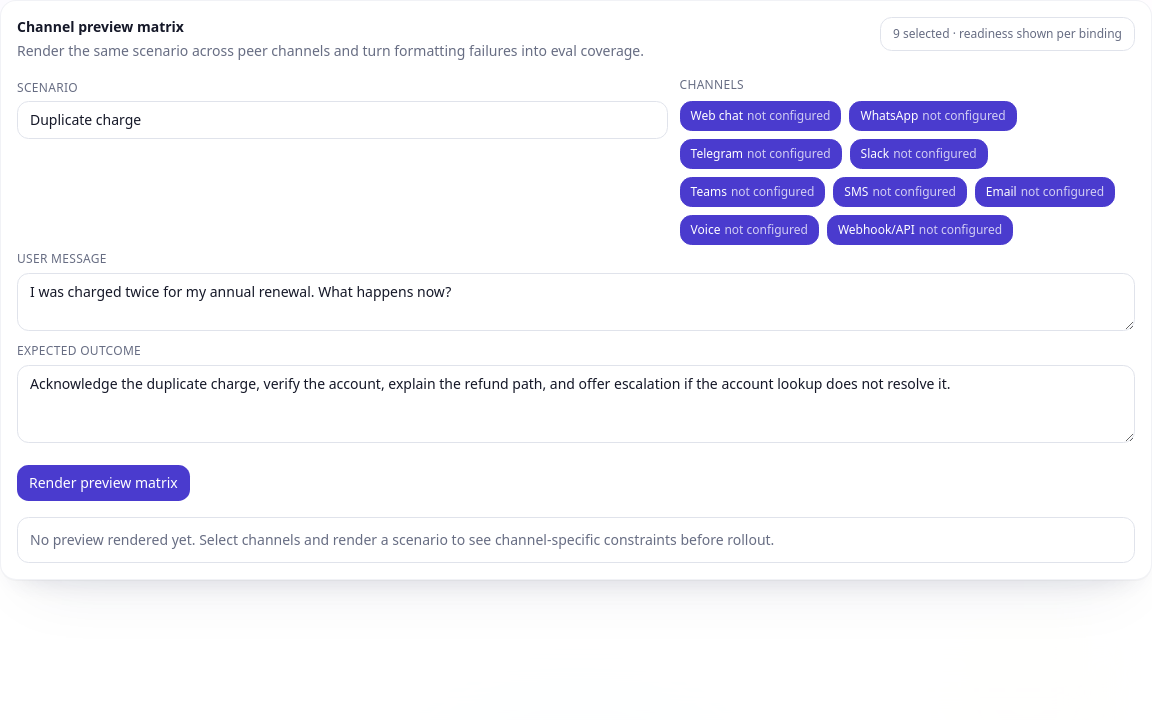
Test: ChannelPreviewMatrix › shows an explicit backend requirement instead of rendering a fixture matrix
Click the button "Render preview matrix".
click(103, 483)  # box [17,465,190,501]
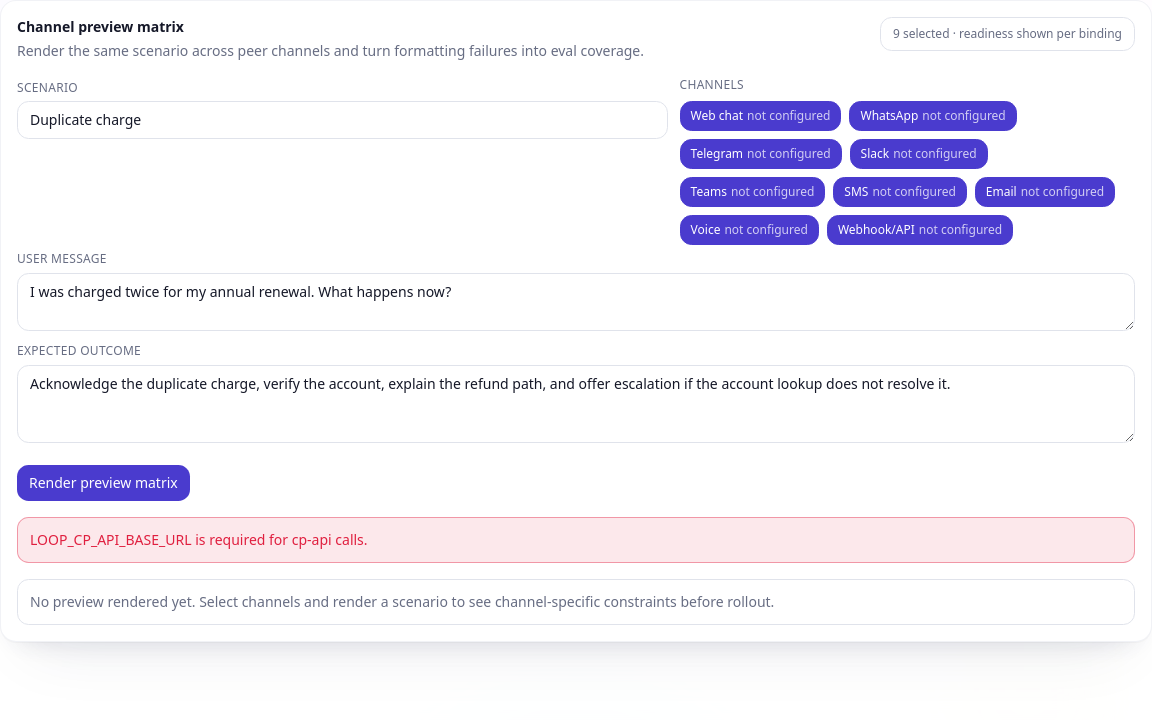
Expected: the text "LOOP_CP_API_BASE_URL is required for cp-api calls." is shown, [17,517,1135,563]
